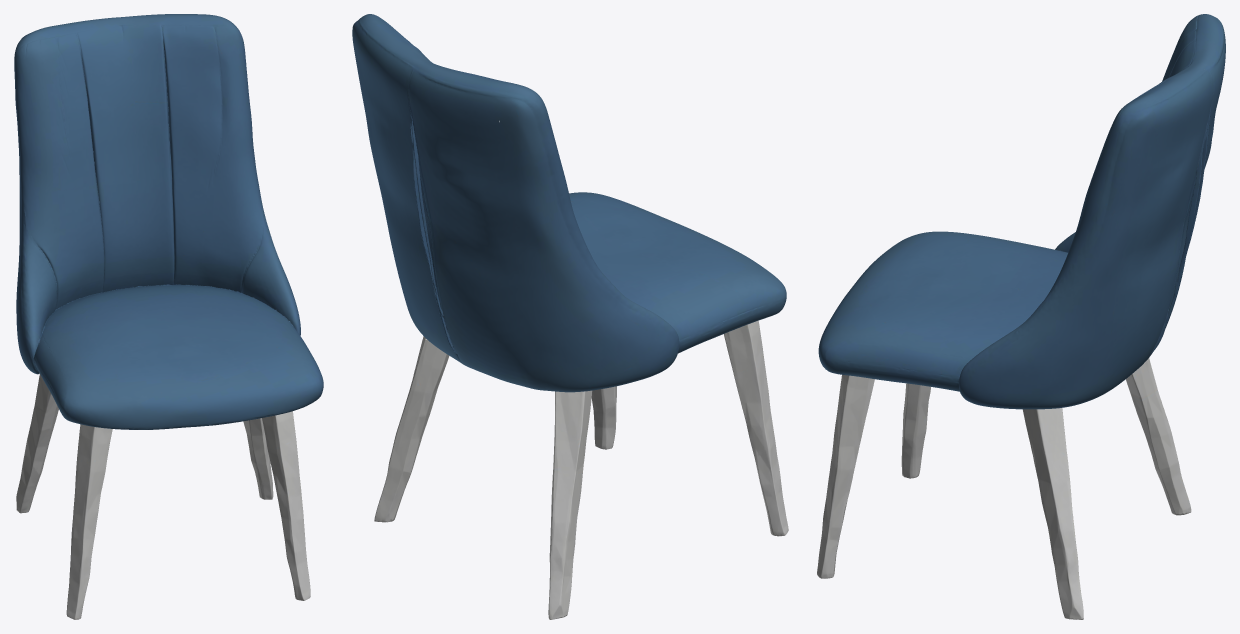
Rendered from Milan.glb.
The picture shows the model from 3 angles, left to right: view 1: azimuth 30°, elevation 25°; view 2: azimuth 150°, elevation 25°; view 3: azimuth 270°, elevation 25°; orthographic projection. The views are drawn at different scales.
Visible parts, largest first — view 1: tripo_node_311d7a01-949c-466e-81c9-9a924c202d8b; view 2: tripo_node_311d7a01-949c-466e-81c9-9a924c202d8b; view 3: tripo_node_311d7a01-949c-466e-81c9-9a924c202d8b.
Part boxes in pixels (x1,y1,x2,y2): tripo_node_311d7a01-949c-466e-81c9-9a924c202d8b: (14,14,323,619); tripo_node_311d7a01-949c-466e-81c9-9a924c202d8b: (352,14,788,619); tripo_node_311d7a01-949c-466e-81c9-9a924c202d8b: (817,14,1225,619).
Bounding box in the file's own units: 0.6206 × 0.9801 × 0.7117.
Materials: 1 (1 with a texture image).
